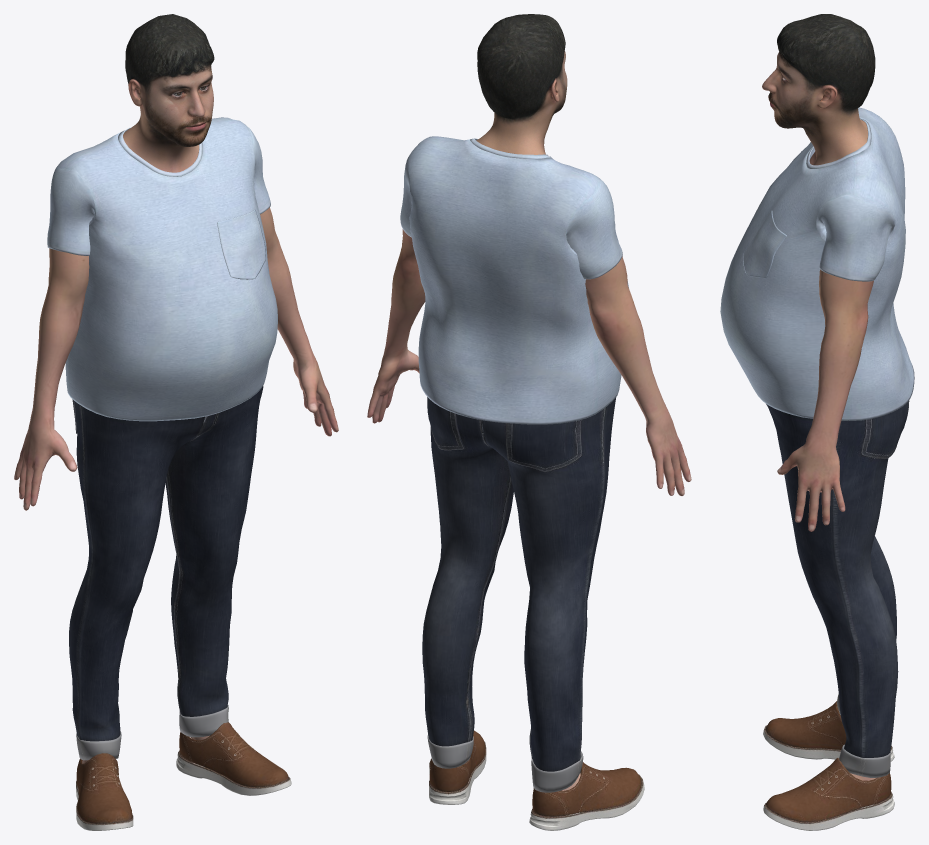
Rendered from before.glb.
3 renders of one model, left to right at view 1: azimuth 30°, elevation 25°; view 2: azimuth 150°, elevation 25°; view 3: azimuth 270°, elevation 25°, orthographic.
Visible parts, largest first — view 1: outfit.Comparison, AvatarBody.Comparison, AvatarHead.Comparison; view 2: outfit.Comparison, AvatarBody.Comparison, AvatarHead.Comparison; view 3: outfit.Comparison, AvatarHead.Comparison, AvatarBody.Comparison.
Part boxes in pixels (x1,y1,x2,y2): outfit.Comparison: [47, 117, 291, 830]; AvatarBody.Comparison: [14, 207, 338, 763]; AvatarHead.Comparison: [123, 14, 214, 172]; outfit.Comparison: [400, 136, 644, 830]; AvatarBody.Comparison: [367, 229, 691, 790]; AvatarHead.Comparison: [476, 14, 567, 154]; outfit.Comparison: [720, 107, 914, 830]; AvatarHead.Comparison: [762, 14, 875, 165]; AvatarBody.Comparison: [777, 269, 875, 780].
Bounding box in the file's own units: 0.7907 × 1.91 × 0.4385.
10 materials, 7 textured.
